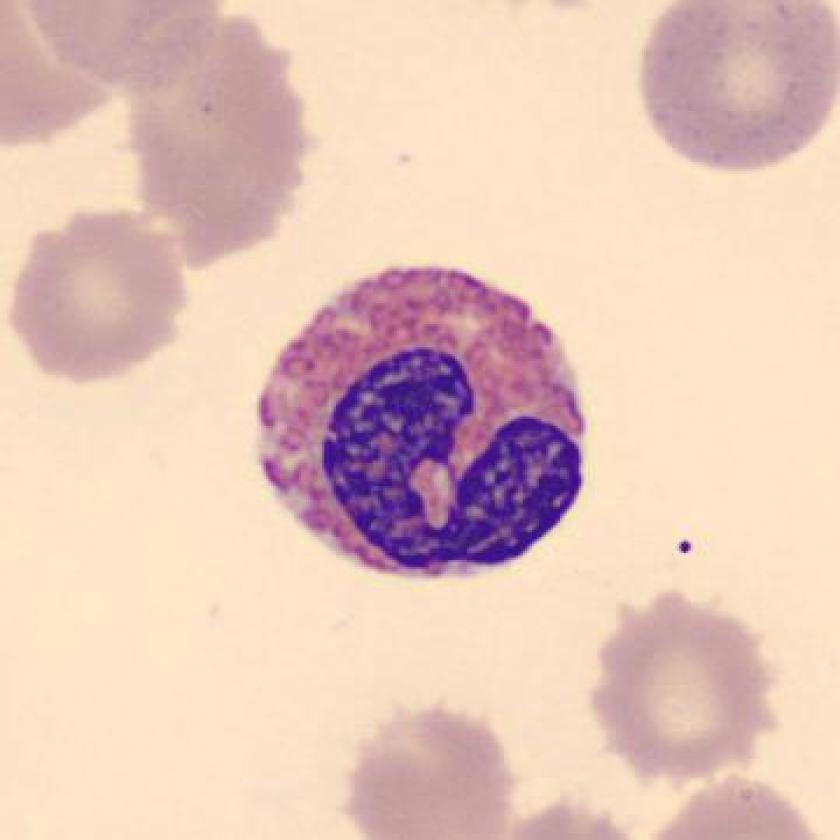eosinophil: (239, 246, 605, 596)
